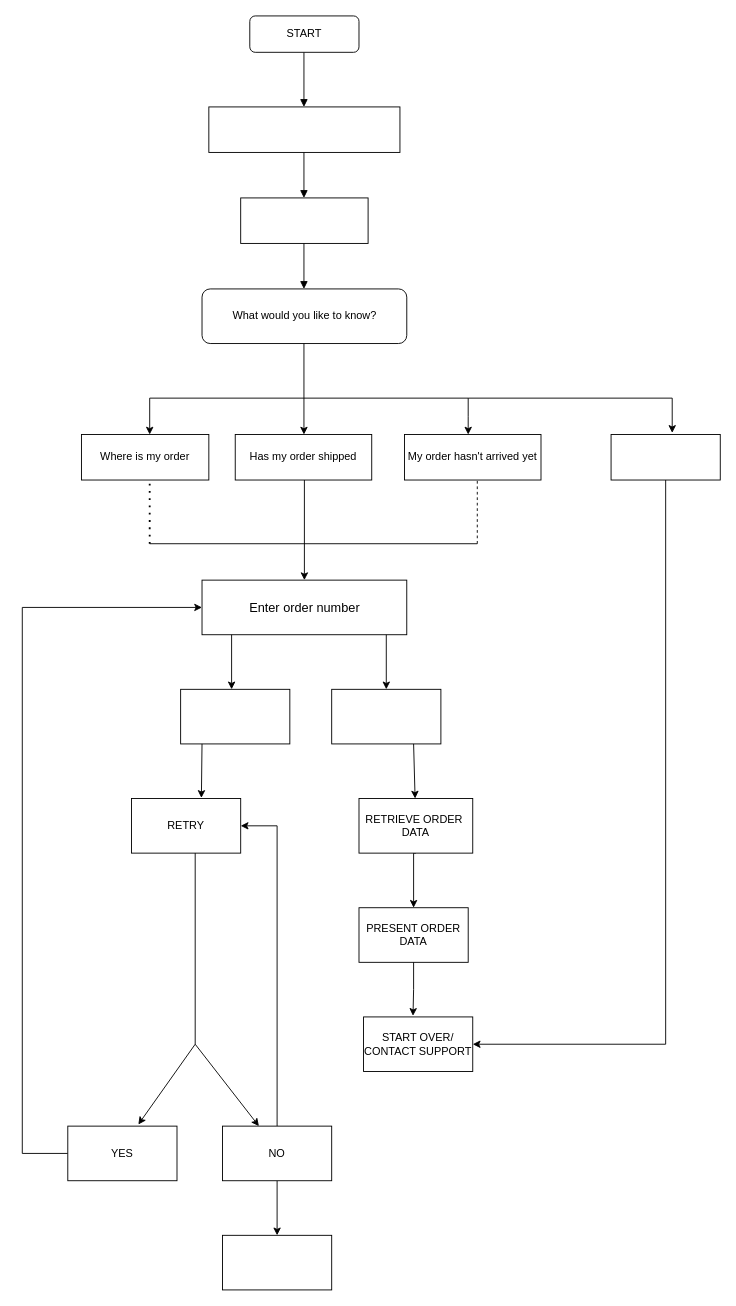
The diagram is 736 pixels wide and 1306 high, and some of its shapes have lost their labels. Here are the shapes that lost their labels. From the top down, the centre of each, then its label:
At pixel 304 129: "How can we help you?".
At pixel 304 220: "ORDER STATUS".
At pixel 665 457: "Something else".
At pixel 235 716: "ORDER NOT FOUND".
At pixel 386 716: "ORDER FOUND".
At pixel 277 1262: "CONTACT SUPPORT".
